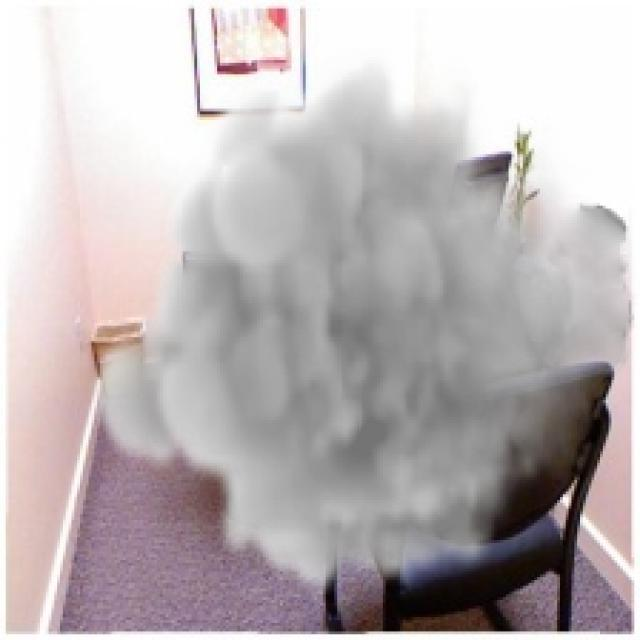smoke: (86, 49, 637, 594)
